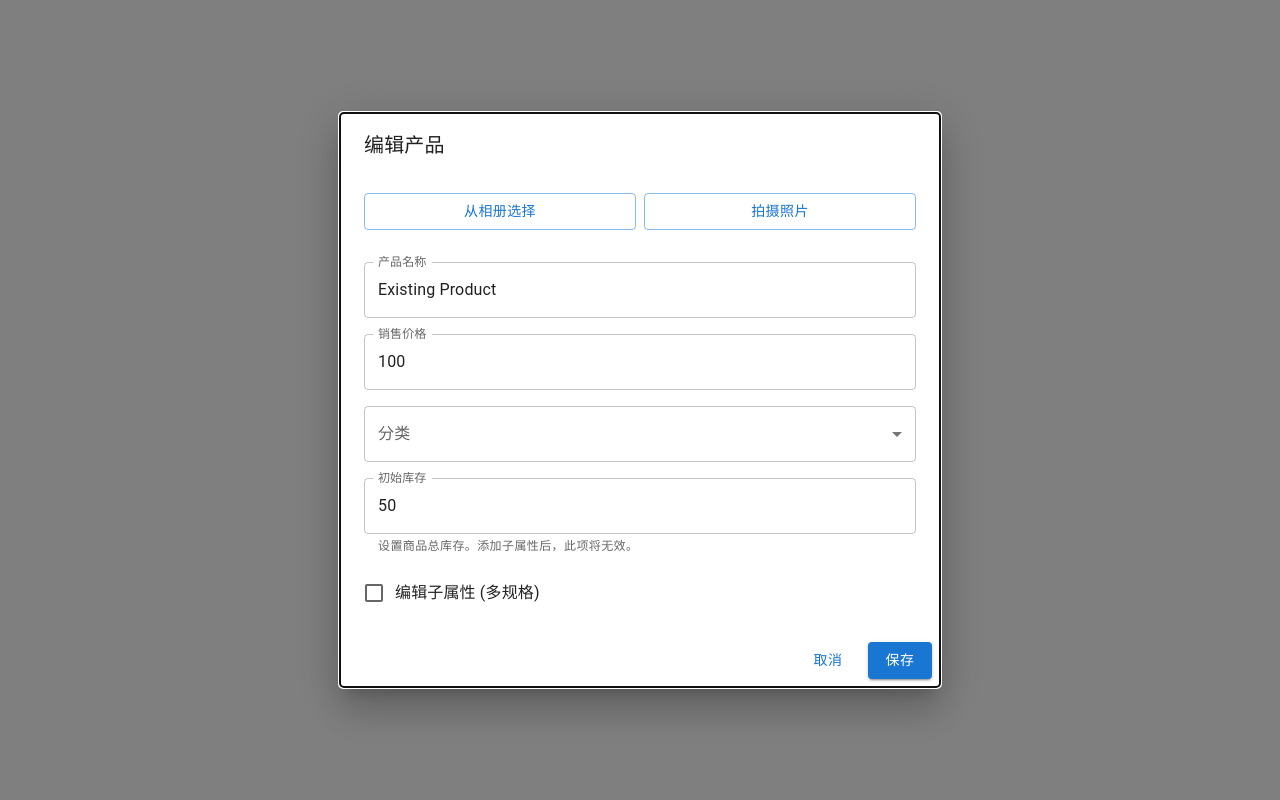
Test case: ProductModal › in Edit Mode › shows error if trying to update to a name that already exists for another product
Replace the text in the field labelled "产品名称" with "Another Product" at (640, 290), box [364,262,916,318]
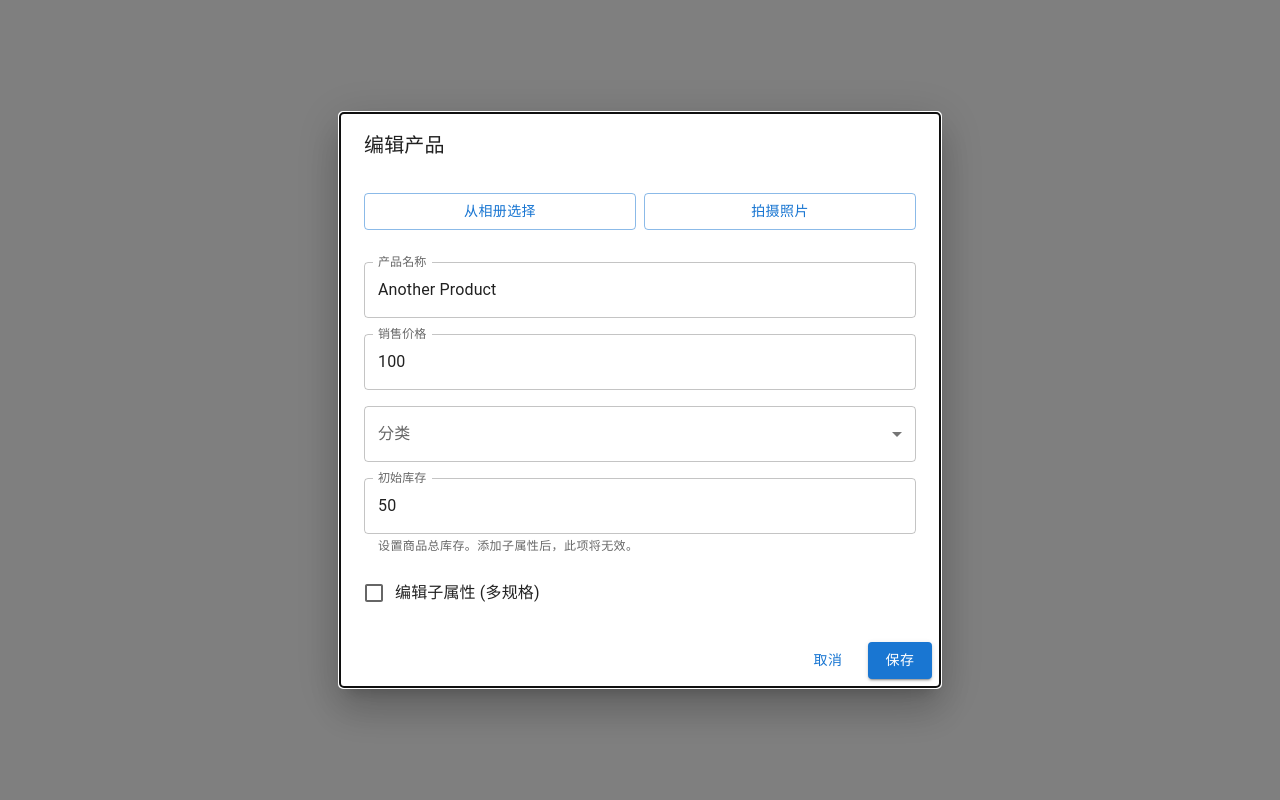
Click the button "保存" at (900, 661), box [868,642,932,679]
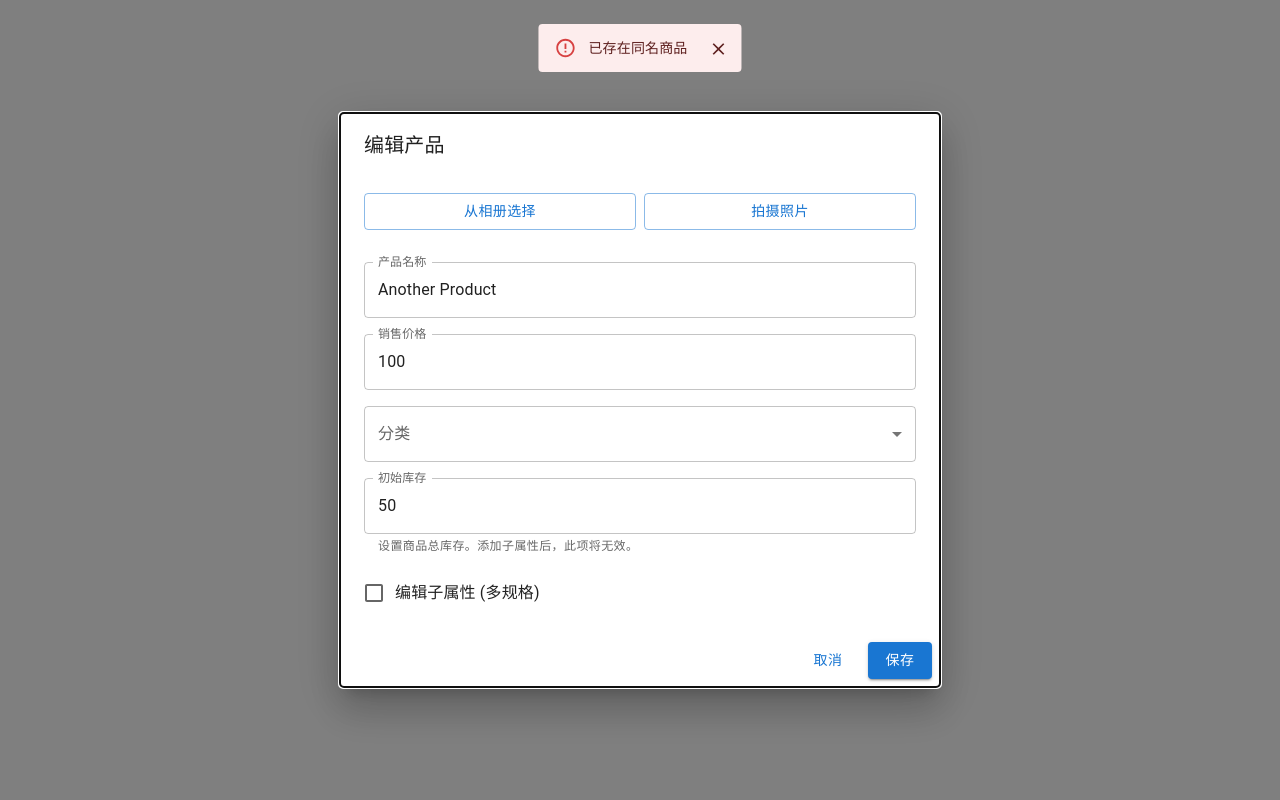
Expected: the text "已存在同名商品" is shown, [588,40,688,56]
